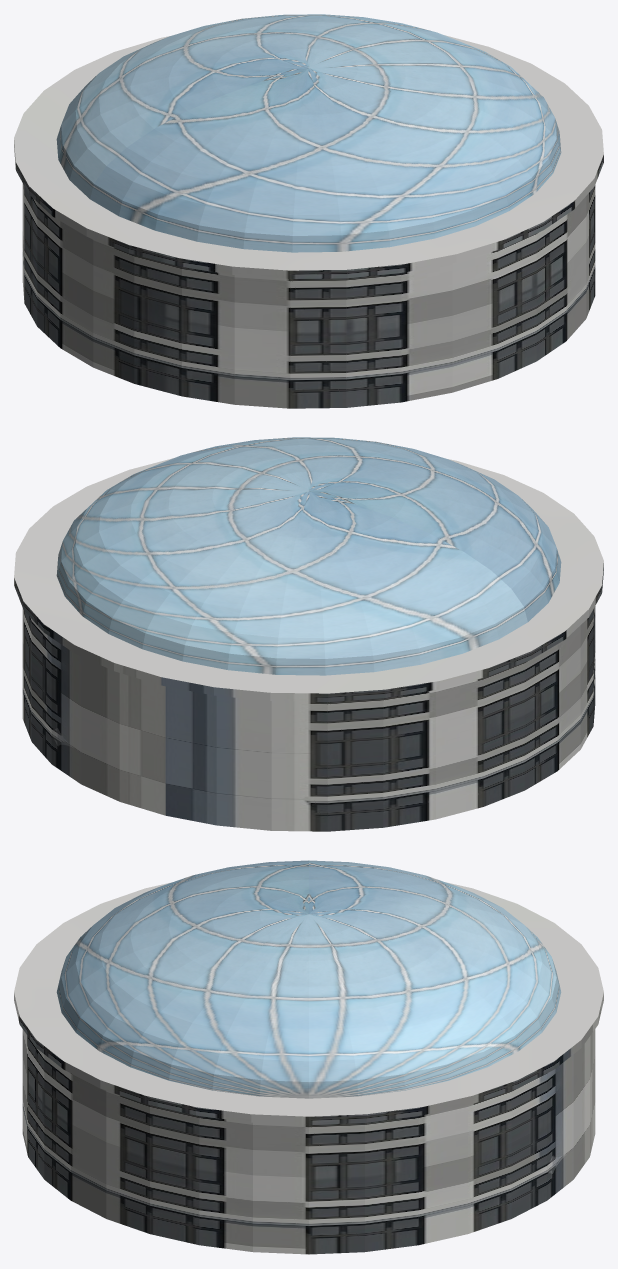
Rendered from build3.fbx.
3 views of the same model, one above another, from view 1: azimuth 30°, elevation 25°; view 2: azimuth 150°, elevation 25°; view 3: azimuth 270°, elevation 25° (orthographic).
Visible parts, largest first — view 1: 柱体, 球体; view 2: 柱体, 球体; view 3: 柱体, 球体.
Boxes of the visible parts, box(x1,y1,x2,y2) form: 柱体: box(14, 35, 603, 408); 球体: box(56, 14, 561, 252); 柱体: box(14, 458, 603, 831); 球体: box(56, 437, 561, 675); 柱体: box(14, 882, 603, 1254); 球体: box(56, 860, 561, 1098).
Bounding box in the file's own units: 1712 × 702 × 1712.
